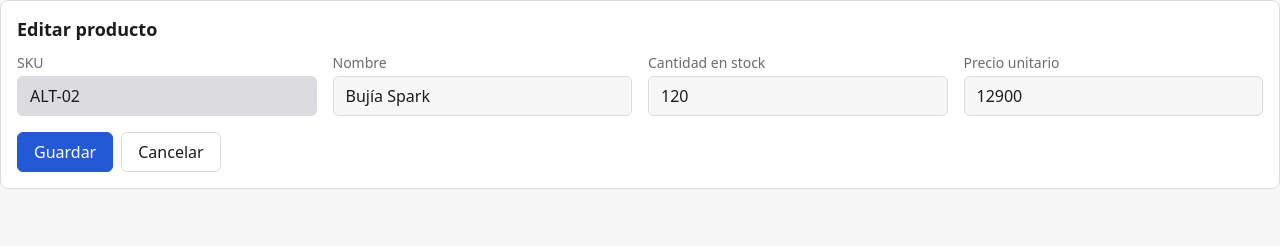
it: EditProductForm › muestra en su campo los errores 400 del servidor
Replace the text in the field labelled "Nombre" with "Bujía Spark Iridium": coordinates (482, 96) 332,76 -> 632,116
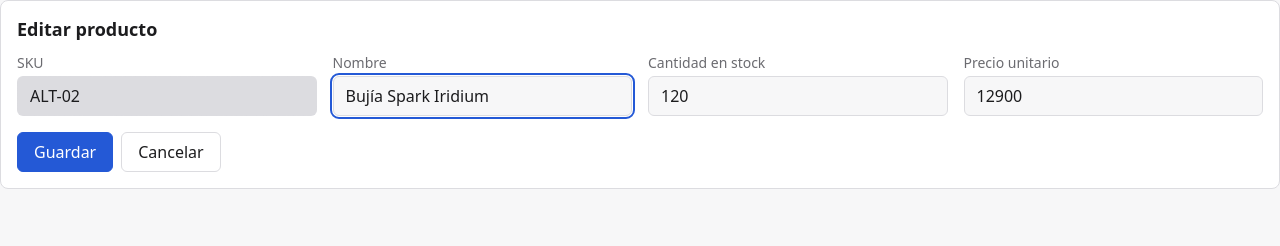
Replace the text in the field labelled "Cantidad en stock" with "95": coordinates (798, 96) 648,76 -> 948,116
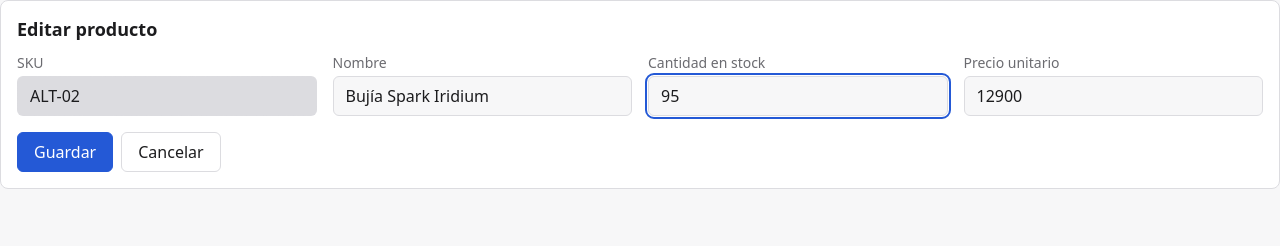
Replace the text in the field labelled "Precio unitario" with "15900,50": coordinates (1113, 96) 964,76 -> 1263,116
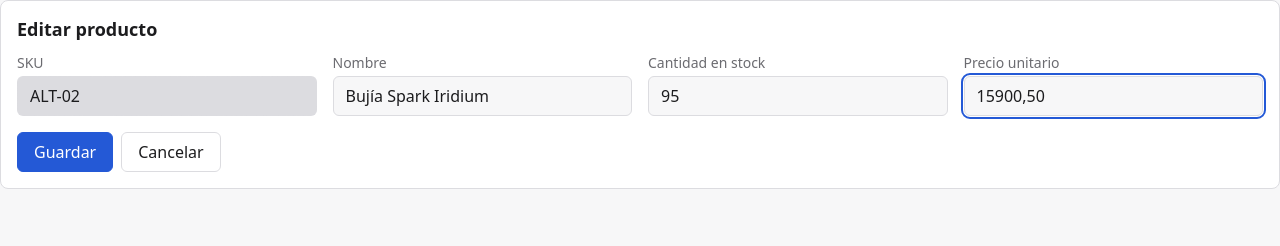
Click the button "Guardar": coordinates (65, 152) 17,132 -> 113,172
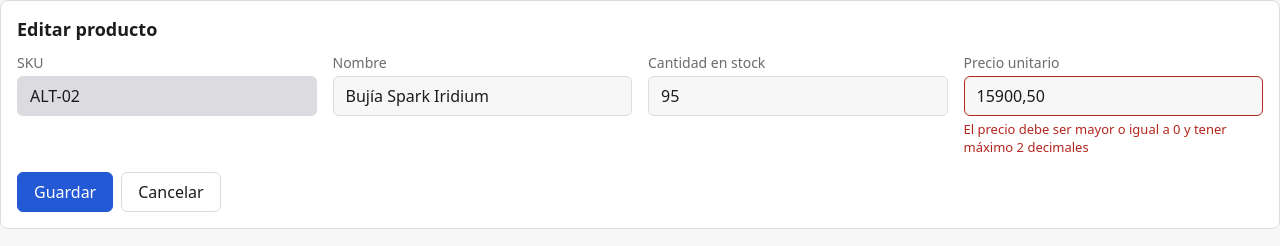
Expected: the button "Guardar" is enabled, 17,172 -> 113,212
Expected: the text "El precio debe ser mayor o igual a 0 y tener máximo 2 decimales" is shown, 964,120 -> 1263,156
